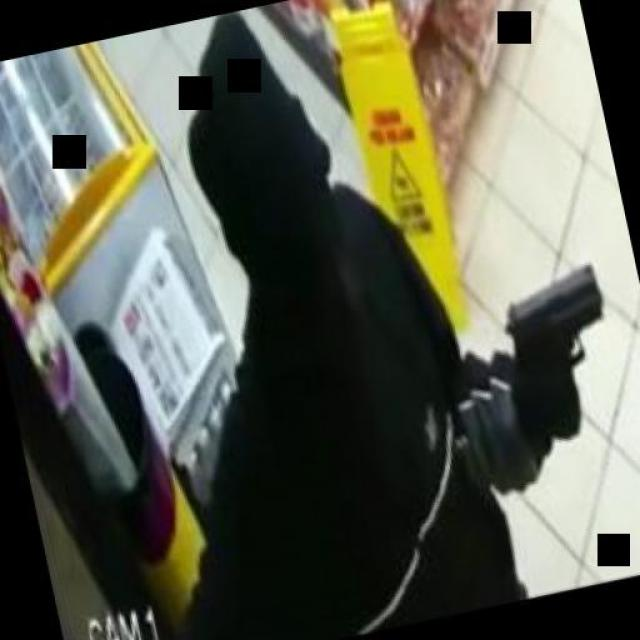gun: (492, 256, 630, 444)
